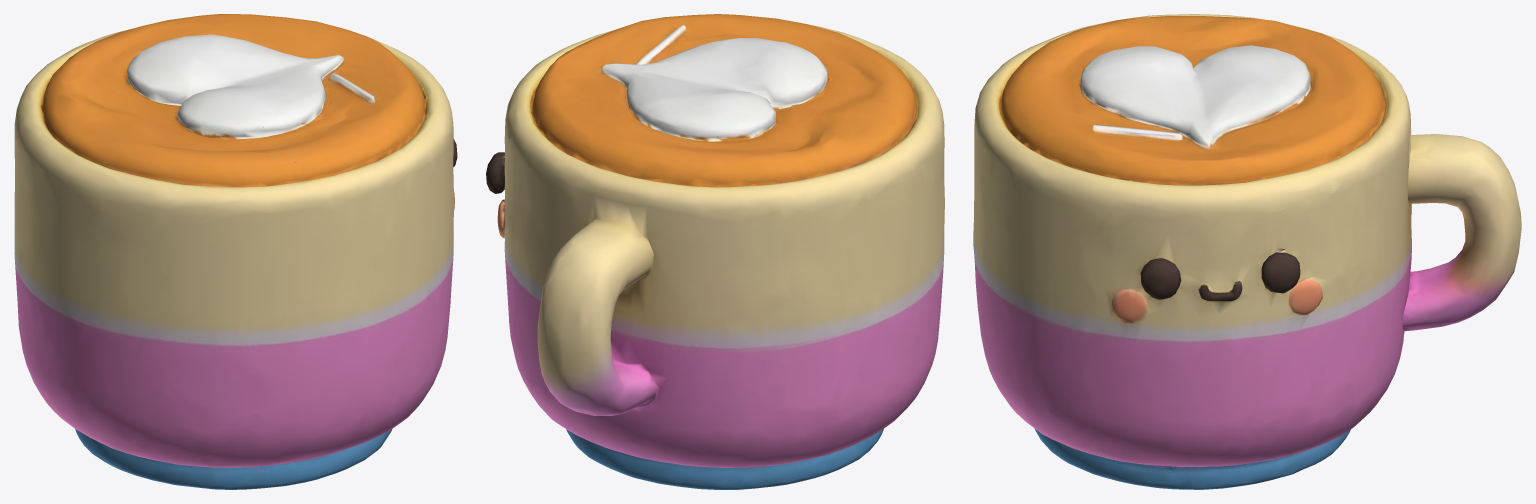
File: coffee.glb
The picture shows the model from 3 angles, left to right: view 1: azimuth 30°, elevation 25°; view 2: azimuth 150°, elevation 25°; view 3: azimuth 270°, elevation 25°; orthographic projection.
Parts seen in each view (by area): view 1: tripo_node_6e00c0dc-61d9-4c37-aca8-194bfbe76a82; view 2: tripo_node_6e00c0dc-61d9-4c37-aca8-194bfbe76a82; view 3: tripo_node_6e00c0dc-61d9-4c37-aca8-194bfbe76a82.
Boxes of the visible parts, x1,y1,x2,y2 form: tripo_node_6e00c0dc-61d9-4c37-aca8-194bfbe76a82: (14,14,457,489); tripo_node_6e00c0dc-61d9-4c37-aca8-194bfbe76a82: (486,14,944,489); tripo_node_6e00c0dc-61d9-4c37-aca8-194bfbe76a82: (973,14,1521,489).
Size of the model in its own units: 0.8359 by 0.7164 by 1.
Materials: 1 (1 with a texture image).
